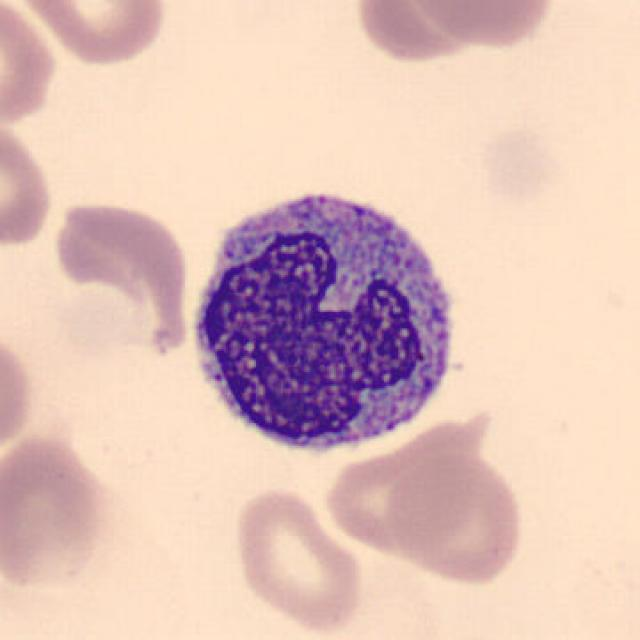Monocyte: (180, 173, 471, 471)
RBC: (343, 0, 564, 120), (39, 196, 194, 361), (228, 483, 366, 637), (384, 448, 528, 589), (0, 428, 117, 594), (12, 0, 170, 69), (351, 2, 508, 67), (471, 120, 574, 210), (404, 0, 560, 53), (0, 112, 57, 255), (0, 0, 59, 134), (0, 323, 39, 469)
